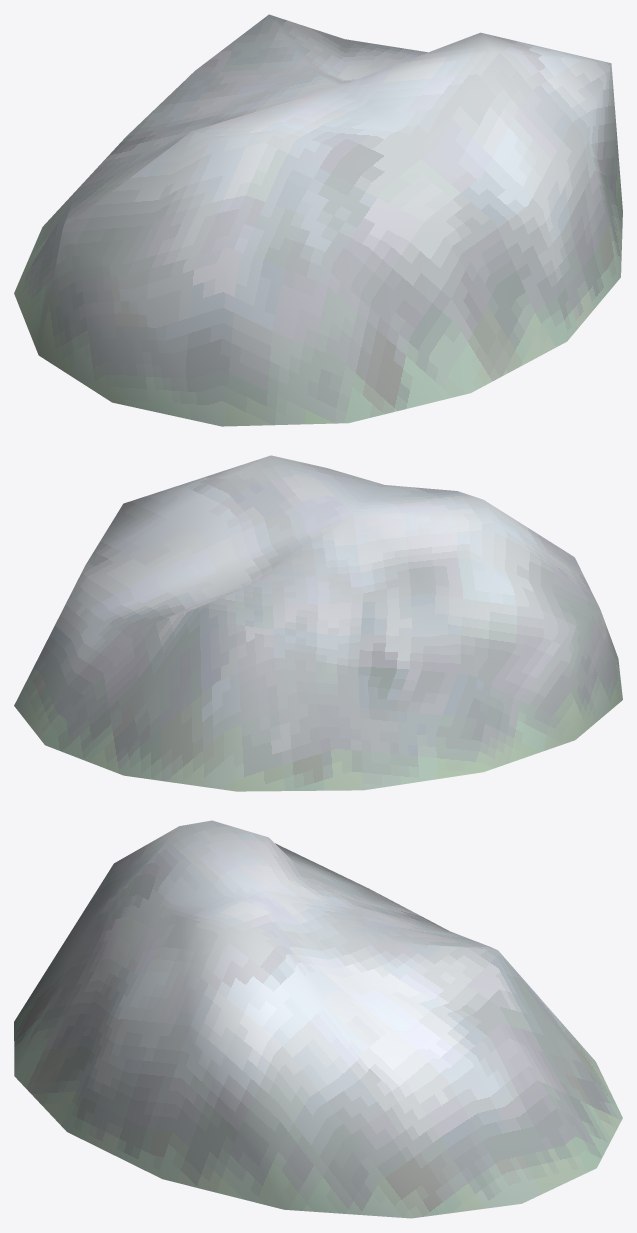
File: TROLLHOLE02_STONEA04.fbx
3 views of the same model, one above another, from view 1: azimuth 30°, elevation 25°; view 2: azimuth 150°, elevation 25°; view 3: azimuth 270°, elevation 25° (orthographic). The views are drawn at different scales.
Parts seen in each view (by area): view 1: TROLLHOLE02_STONEA04; view 2: TROLLHOLE02_STONEA04; view 3: TROLLHOLE02_STONEA04.
Boxes of the visible parts, x1,y1,x2,y2 form: TROLLHOLE02_STONEA04: (14,14,622,426); TROLLHOLE02_STONEA04: (14,455,622,791); TROLLHOLE02_STONEA04: (14,820,622,1218).
Bounding box in the file's own units: 9842 × 3541 × 9408.
1 material, 1 textured.
